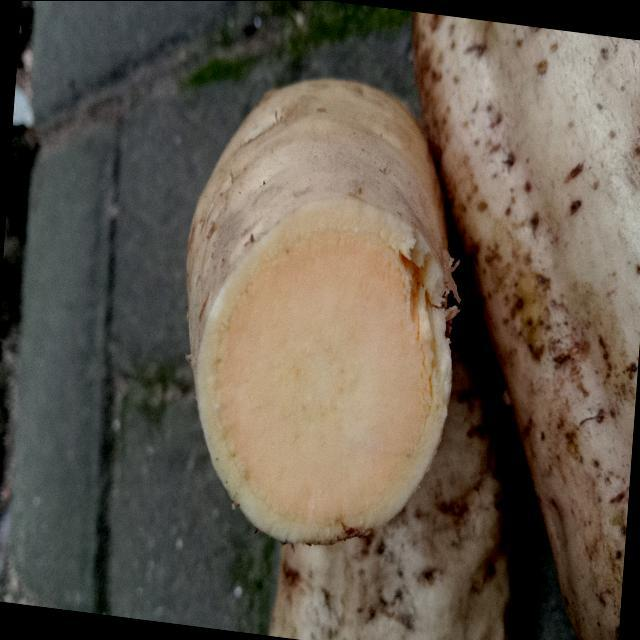Healthy Sweet Potato: (195, 197, 456, 543)
